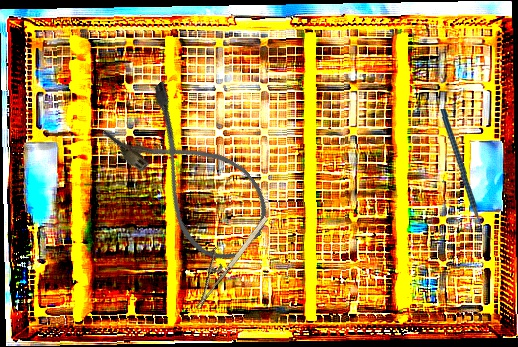Cannula: (99, 76, 284, 273)
Chopper: (437, 109, 497, 240)
Needle Holder: (178, 204, 271, 310)
